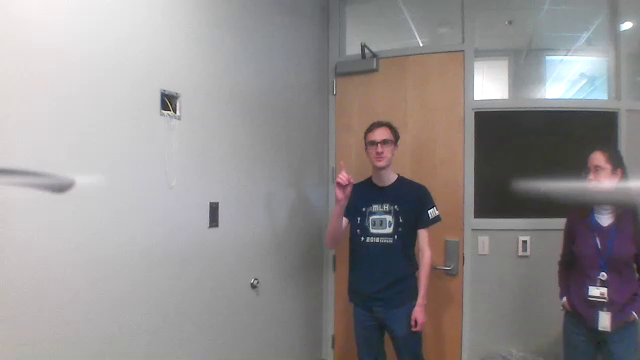up: (330, 157, 357, 203)
